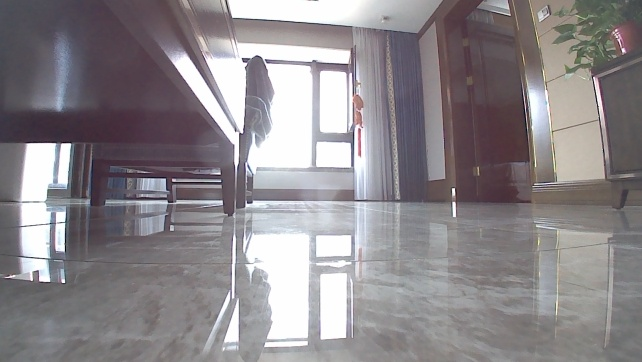door_anno: (458, 15, 529, 201)
